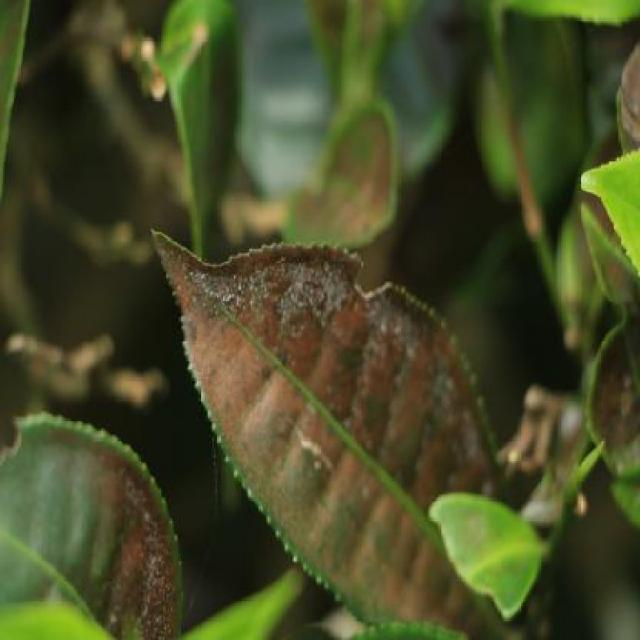Red Spider infested tea leaf: (146, 211, 525, 638), (0, 397, 185, 640)
